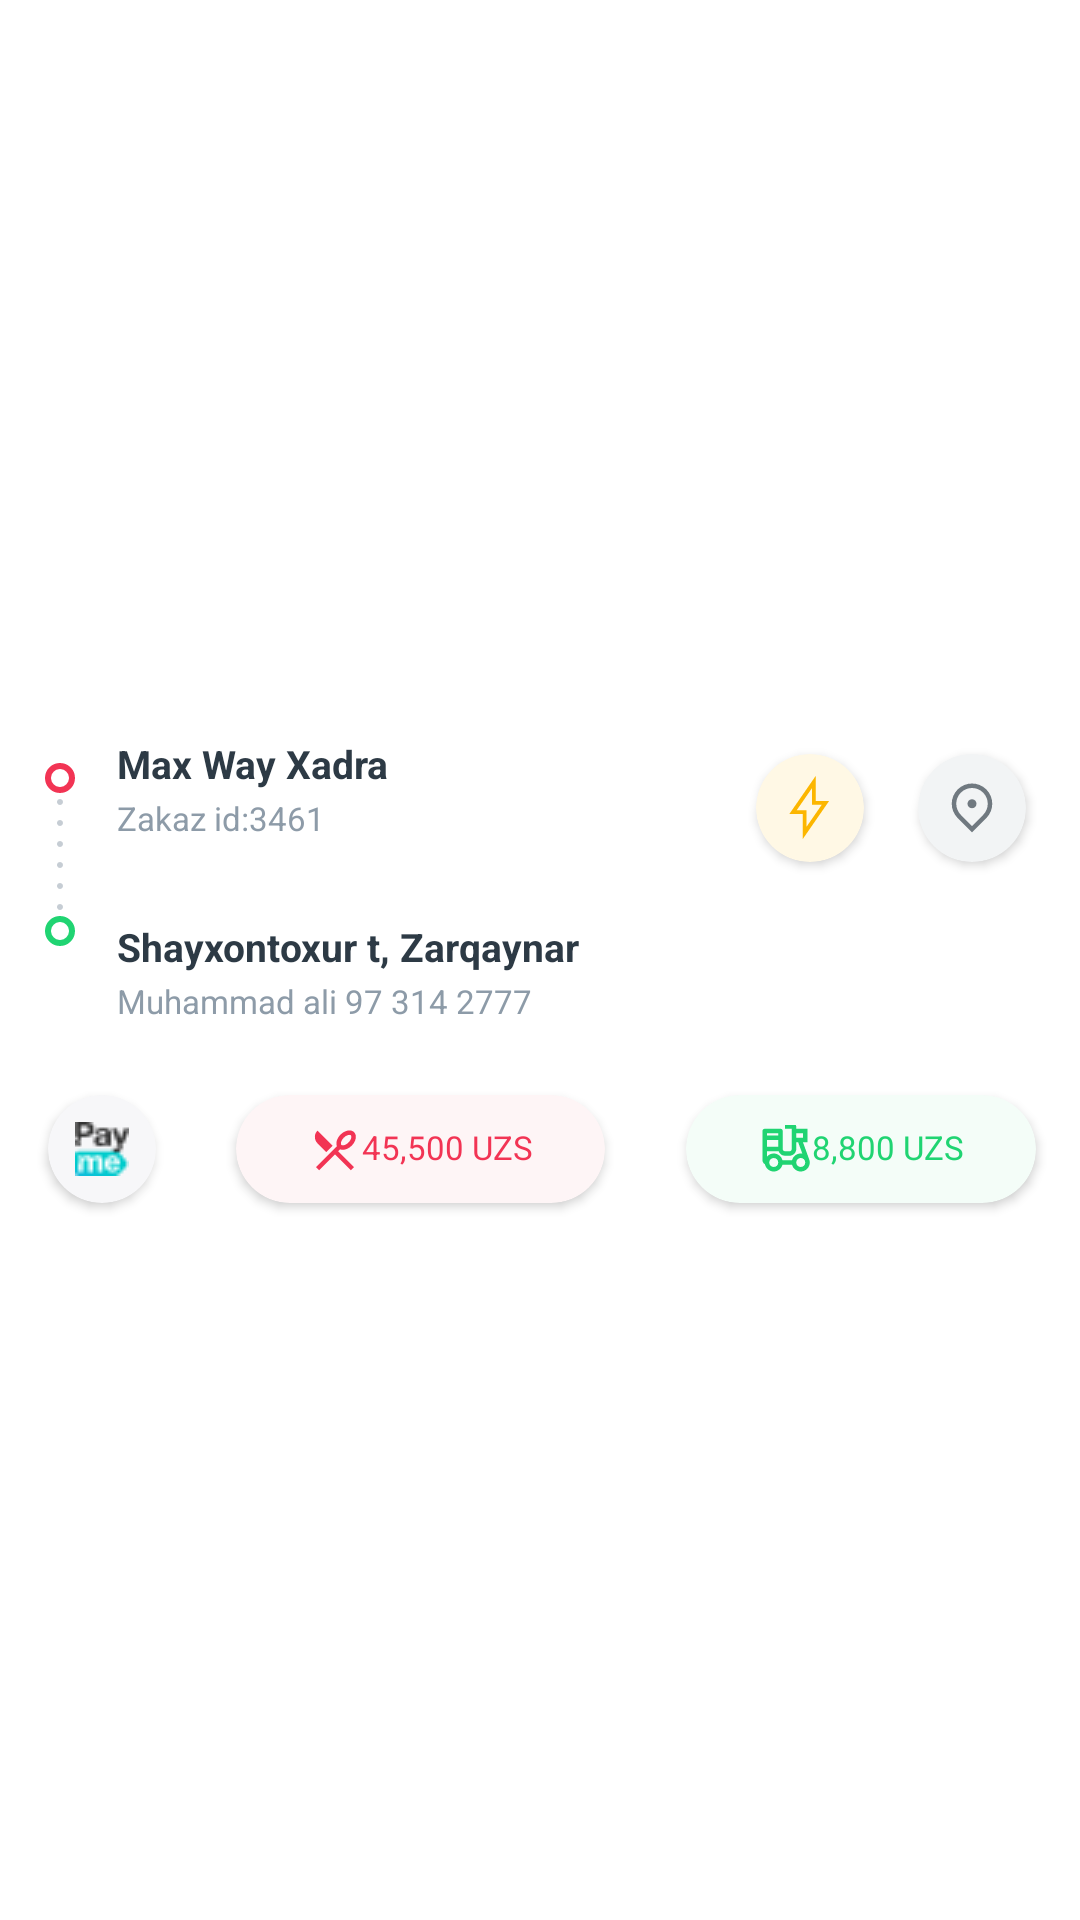

Named icons in this screenshot (1080 x 1920) and their centers, (x=x, y=y):
flash: (x=809, y=807)
location: (x=972, y=807)
